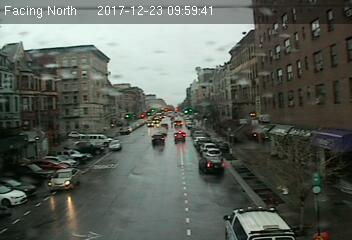car: (47, 168, 80, 190), (198, 156, 224, 173), (107, 139, 122, 151), (203, 148, 223, 156), (151, 133, 165, 144), (173, 131, 186, 141)
police: (222, 204, 298, 240)
